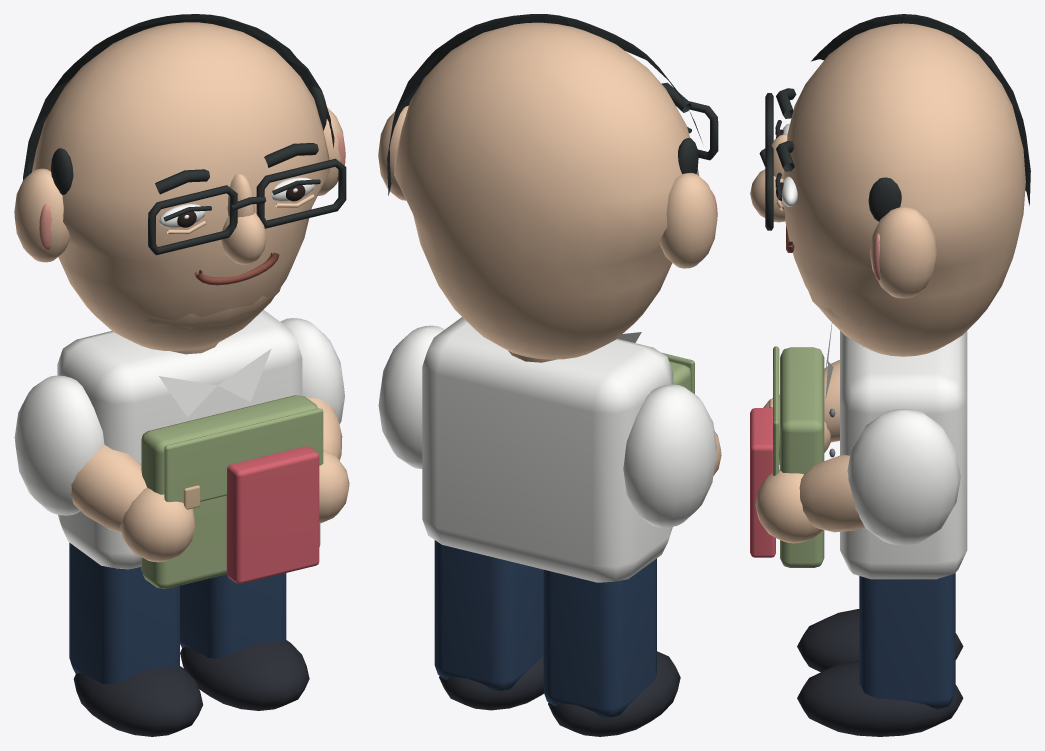
The model's file is longlong-11.glb.
3 renders of one model, left to right at view 1: azimuth 30°, elevation 25°; view 2: azimuth 150°, elevation 25°; view 3: azimuth 270°, elevation 25°, orthographic. The views are drawn at different scales.
Visible parts, largest first — view 1: Trousers, Side-swept hair; view 2: Trousers, Side-swept hair; view 3: Trousers, Side-swept hair.
Part boxes in pixels (x1=…): Trousers: x1=14, y1=22, x2=349, y2=736; Side-swept hair: x1=23, y1=14, x2=334, y2=417; Trousers: x1=378, y1=22, x2=721, y2=736; Side-swept hair: x1=387, y1=14, x2=702, y2=342; Trousers: x1=750, y1=23, x2=1025, y2=736; Side-swept hair: x1=811, y1=14, x2=1030, y2=398.
Bounding box in the file's own units: 1.49 × 3 × 1.13.
2 materials, 2 textured.
